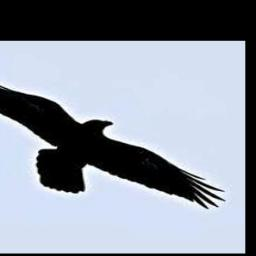Crow: (0, 75, 226, 210)
